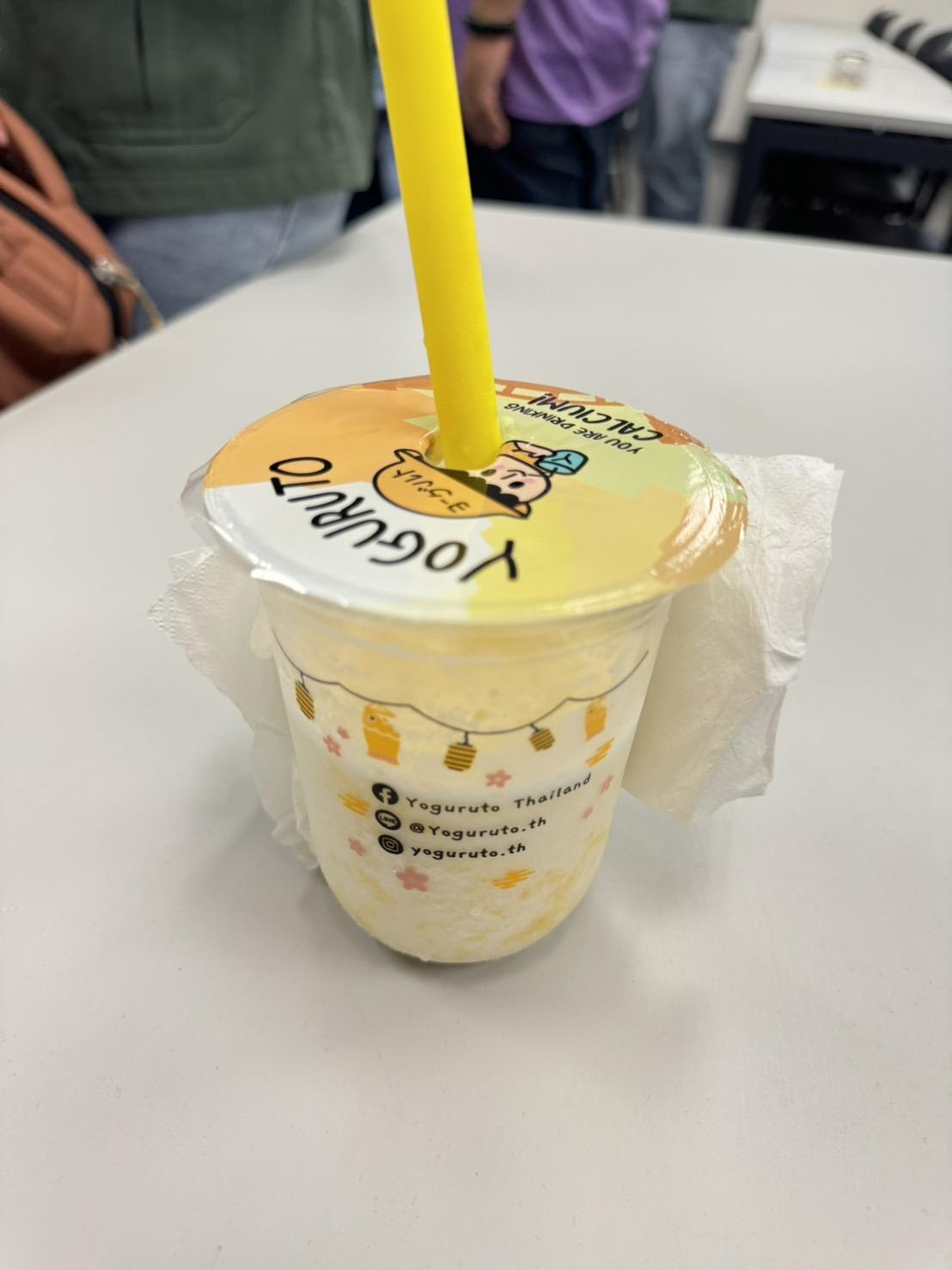cup: (190, 377, 746, 961)
